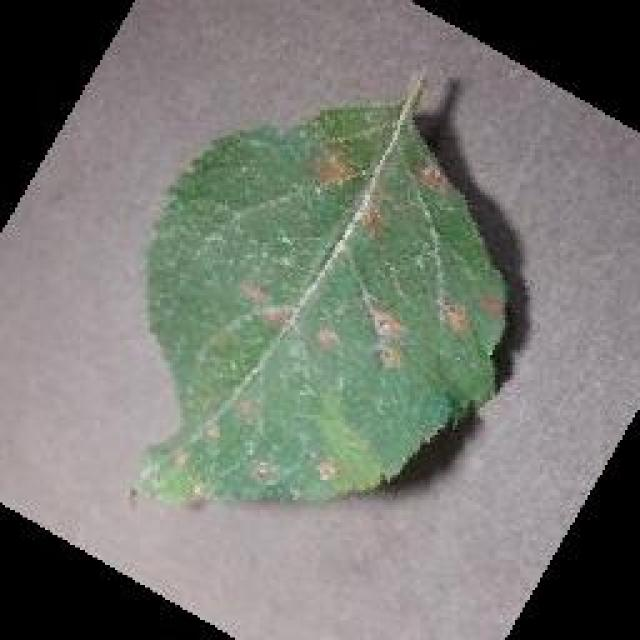apple healthy: (128, 72, 518, 508)
